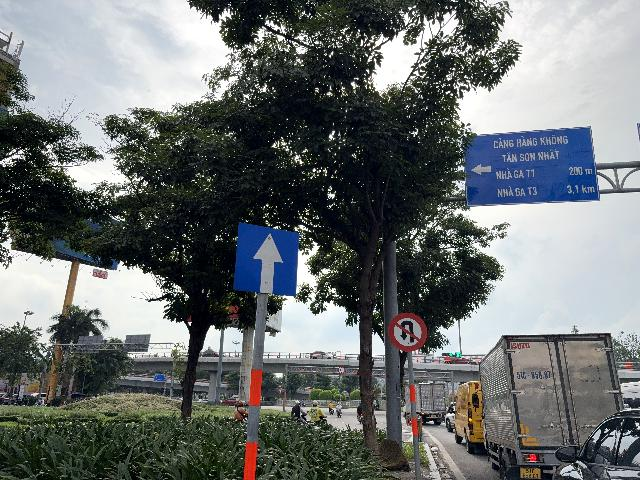cam-quay-dau-xe: (388, 312, 428, 352)
duong-mot-chieu: (233, 222, 299, 297)
